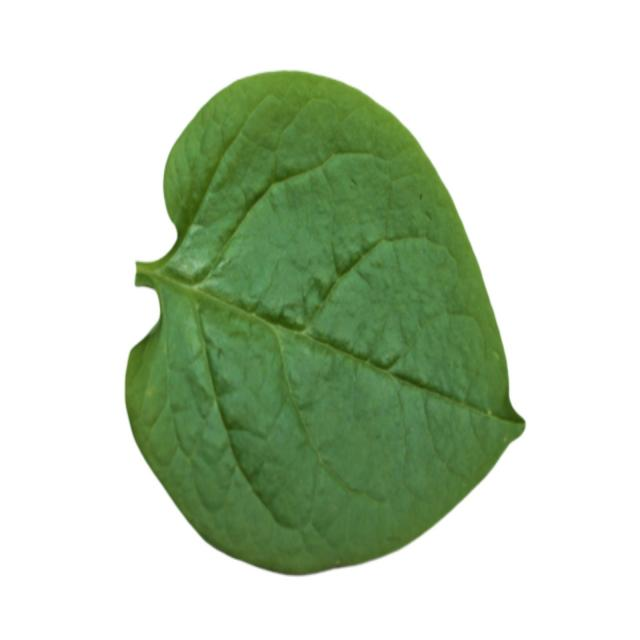Medicinal-Basale: (122, 66, 525, 573)
